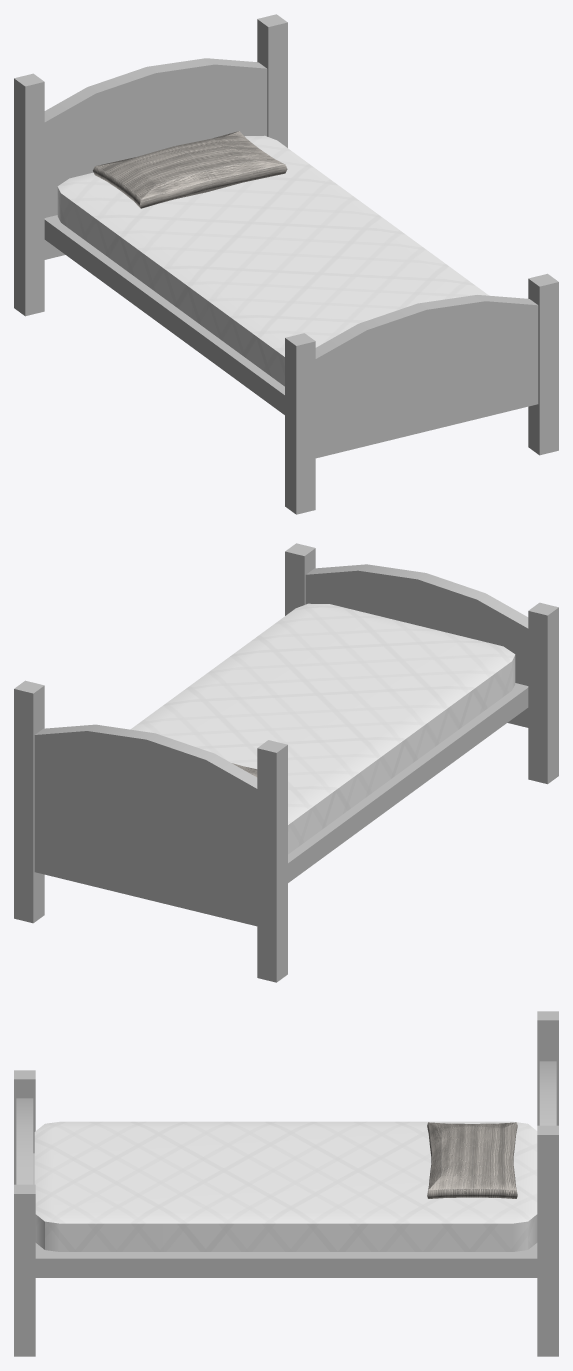
File: bed2.fbx
3 renders of one model, top to bottom at view 1: azimuth 30°, elevation 25°; view 2: azimuth 150°, elevation 25°; view 3: azimuth 270°, elevation 25°, orthographic. The views are drawn at different scales.
Parts seen in each view (by area): view 1: metal, matress, pillow; view 2: metal, matress; view 3: matress, metal, pillow.
Boxes of the visible parts, box(x1,y1,x2,y2) form: metal: box(14, 14, 558, 514); matress: box(57, 135, 488, 386); pillow: box(93, 131, 287, 208); metal: box(14, 543, 558, 982); matress: box(130, 603, 515, 854); matress: box(34, 1121, 537, 1251); metal: box(14, 1011, 558, 1356); pillow: box(427, 1122, 517, 1198).
Size of the model in its own units: 9.4 by 7.86 by 17.5.
